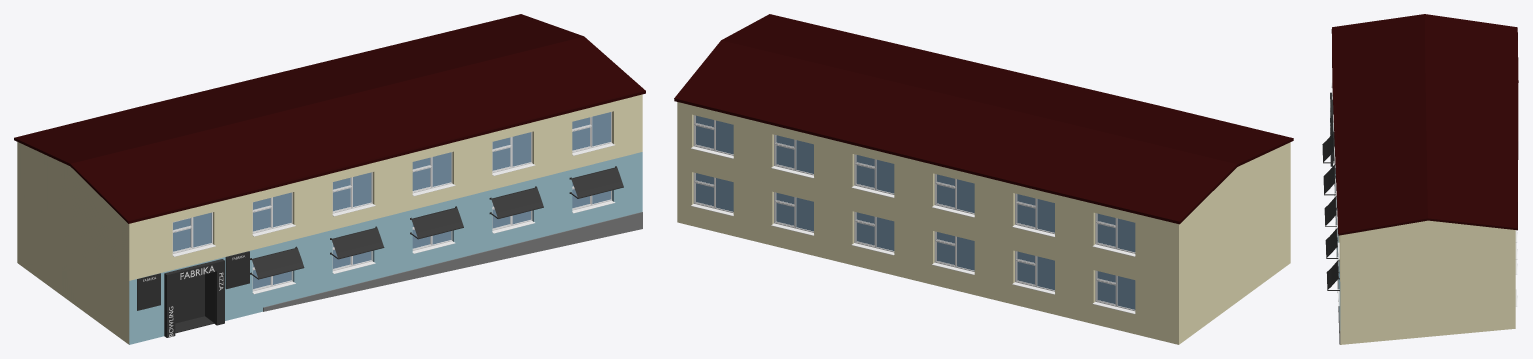
File: fabrika.glb
3 views of the same model, side by side, from view 1: azimuth 30°, elevation 25°; view 2: azimuth 150°, elevation 25°; view 3: azimuth 270°, elevation 25° (orthographic). The views are drawn at different scales.
Visible parts, largest first — view 1: Cube, Cube.002, Cube.001, Plane.001, Plane, Plane.003, Plane.004, Plane.002; view 2: Cube, Cube.002; view 3: Cube, Cube.002, Plane, Plane.001, Plane.002, Plane.004, Plane.003.
Boxes of the visible parts, <box> form: Cube: <box>14,14,645,344</box>; Cube.002: <box>172,112,615,294</box>; Cube.001: <box>137,251,249,310</box>; Plane.001: <box>331,228,383,258</box>; Plane: <box>252,248,303,278</box>; Plane.003: <box>491,188,543,218</box>; Plane.004: <box>571,167,623,197</box>; Plane.002: <box>411,208,463,238</box>; Cube: <box>674,14,1293,344</box>; Cube.002: <box>691,115,1135,314</box>; Cube: <box>1330,14,1518,344</box>; Cube.002: <box>1331,83,1517,306</box>; Plane: <box>1322,133,1333,162</box>; Plane.001: <box>1323,165,1334,193</box>; Plane.002: <box>1324,197,1335,225</box>; Plane.004: <box>1327,261,1338,289</box>; Plane.003: <box>1325,229,1336,257</box>.
Size of the model in its own units: 12.23 by 3.44 by 4.89.
